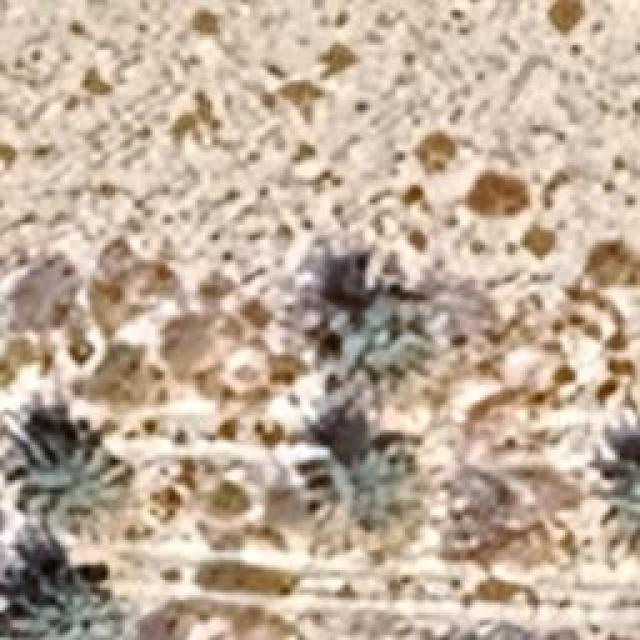PalmTree: (7, 440, 135, 550), (301, 424, 419, 538), (322, 268, 428, 392), (12, 578, 130, 638), (610, 451, 640, 531), (547, 0, 585, 30)
